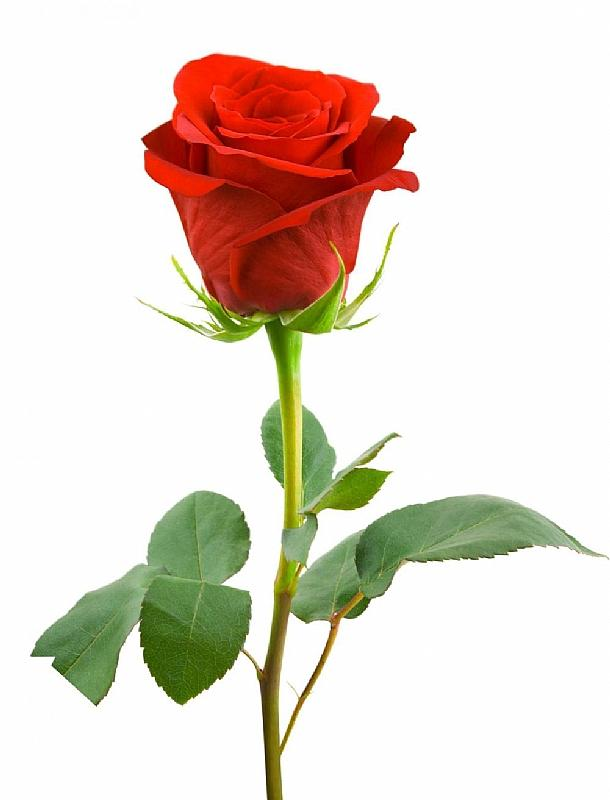Rose: (142, 45, 426, 345)
